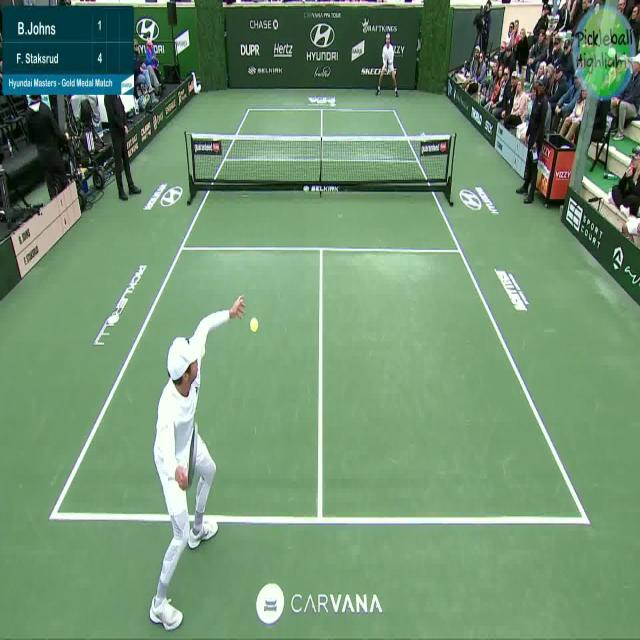ball: (249, 313, 260, 335)
